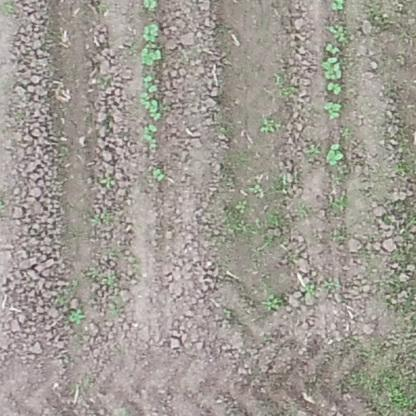vc: (140, 90, 164, 119), (324, 141, 347, 168), (321, 56, 343, 80), (323, 100, 347, 121), (140, 47, 163, 66), (142, 22, 159, 43), (142, 123, 158, 144), (323, 41, 345, 53), (143, 73, 158, 88), (152, 167, 166, 182), (327, 82, 342, 95), (144, 1, 154, 8)
